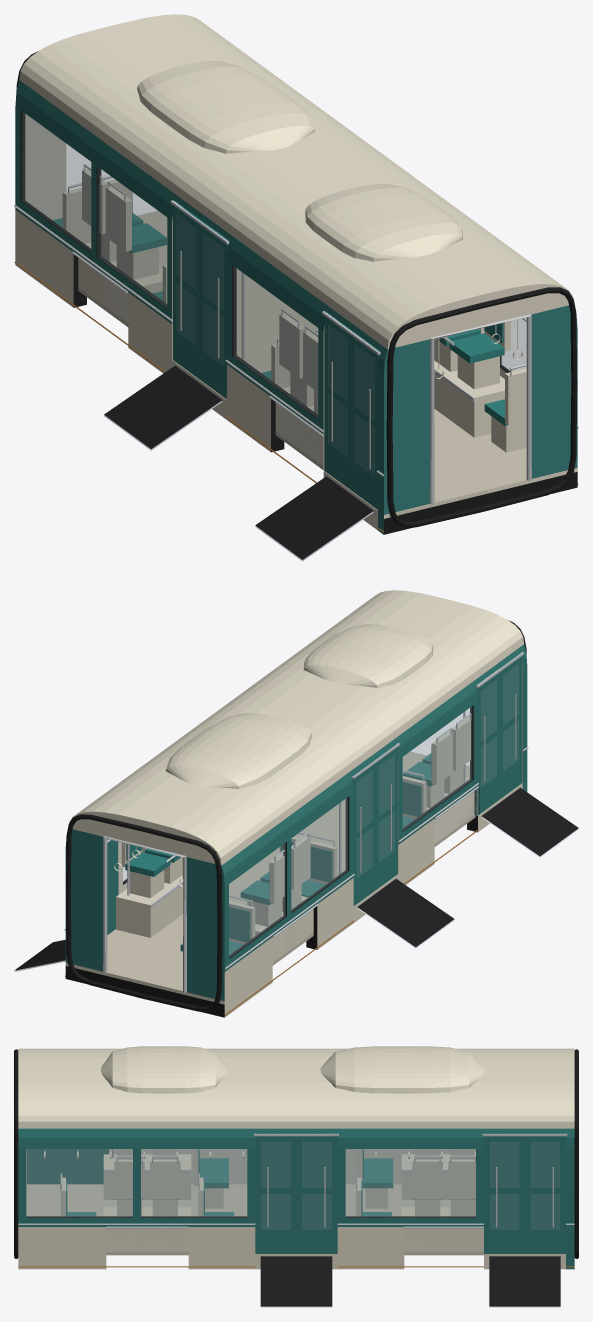
Rendered from carrow_tram_mid.glb.
3 renders of one model, top to bottom at view 1: azimuth 30°, elevation 25°; view 2: azimuth 150°, elevation 25°; view 3: azimuth 270°, elevation 25°, orthographic. The views are drawn at different scales.
Parts seen in each view (by area): view 1: endwall_B, fairings, side_L_2, roof_5, roof_0, floor, roof_2, side_L_1, glass_L_1_0, roof_3, glass_L_2_0, glass_L_2_1 (+35 smaller); view 2: endwall_F, fairings, side_L_2, roof_5, roof_0, roof_2, floor, side_L_1, glass_L_1_0, roof_3, glass_L_2_1, glass_L_2_0 (+35 smaller); view 3: side_R_0, fairings, glass_R_1_0, side_R_1, roof_5, glass_R_0_0, roof_0, glass_R_0_1, roof_2, floor, door_R0_a, door_R0_b (+40 smaller).
Part boxes in pixels (x1,y1,x2,y2): endwall_B: (384,284,577,534); fairings: (137,61,463,261); side_L_2: (14,80,175,373); roof_5: (19,14,260,124); roof_0: (326,239,566,349); floor: (78,211,546,517); roof_2: (203,149,444,259); side_L_1: (225,235,327,482); glass_L_1_0: (233,266,317,417); roof_3: (142,104,381,214); glass_L_2_0: (98,167,166,306); glass_L_2_1: (22,112,90,250); endwall_F: (65,811,224,1017); fairings: (165,624,433,789); side_L_2: (221,771,354,1017); roof_5: (75,774,271,864); roof_0: (327,590,523,680); roof_2: (226,664,423,754); floor: (74,751,475,1003); side_L_1: (395,680,478,884); glass_L_1_0: (403,707,472,830); roof_3: (176,701,372,791); glass_L_2_1: (229,843,285,957); glass_L_2_0: (291,797,347,911); side_R_0: (18,1128,255,1269); fairings: (101,1046,484,1093); glass_R_1_0: (346,1149,475,1217); side_R_1: (337,1128,483,1269); roof_5: (482,1048,574,1128); glass_R_0_0: (26,1149,132,1217); roof_0: (18,1048,110,1128); glass_R_0_1: (141,1149,246,1217); roof_2: (203,1048,296,1128); floor: (26,1184,483,1255); door_R0_a: (255,1133,296,1253); door_R0_b: (296,1133,337,1253).
Bounding box in the file's own units: 4.45 × 3.1 × 8.53.
